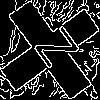Z: (25, 25, 80, 77)
